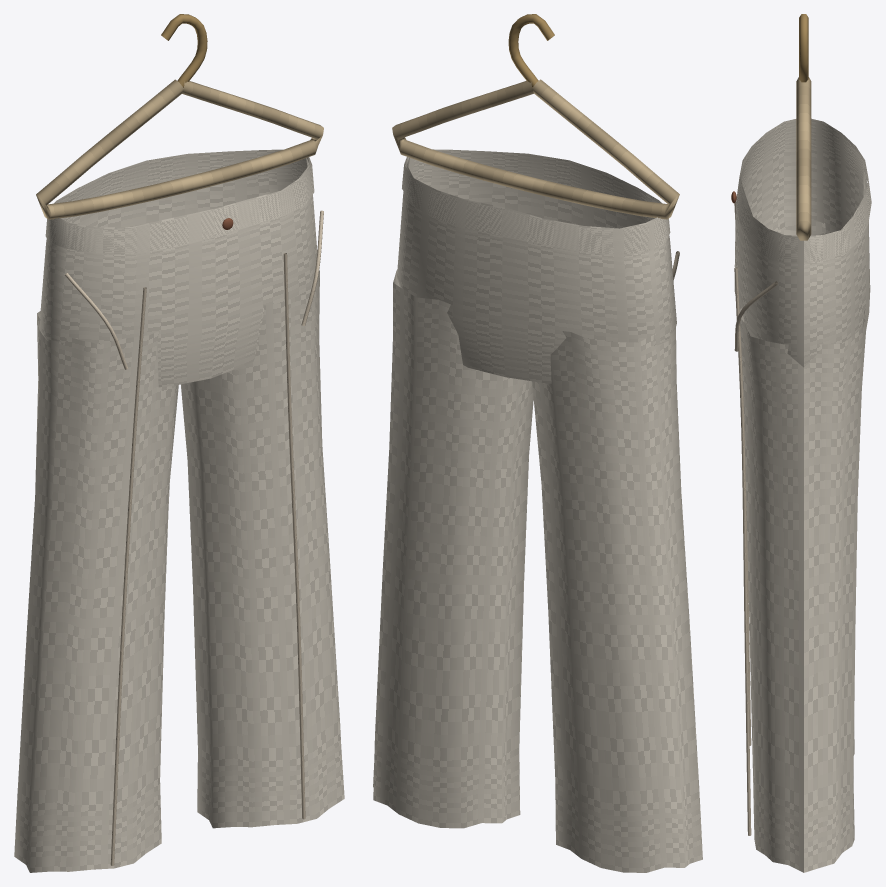
3 views of the same model, side by side, from view 1: azimuth 30°, elevation 25°; view 2: azimuth 150°, elevation 25°; view 3: azimuth 270°, elevation 25° (orthographic). The views are drawn at different scales.
Visible parts, largest first — view 1: fabric_cream, ash_grain, fabric_linen, aged_brass; view 2: fabric_cream, ash_grain, aged_brass; view 3: fabric_cream, fabric_linen, ash_grain, aged_brass.
Boxes of the visible parts, x1,y1,x2,y2 form: fabric_cream: (14,149,344,872); ash_grain: (36,79,323,219); fabric_linen: (65,210,323,865); aged_brass: (161,14,207,87); fabric_cream: (373,149,702,872); ash_grain: (392,79,679,219); aged_brass: (508,14,554,87); fabric_cream: (734,118,871,872); fabric_linen: (734,202,778,835); ash_grain: (796,77,811,240); aged_brass: (799,14,808,82).
Bounding box in the file's own units: 0.5277 × 1.27 × 0.207.
5 materials, 3 textured.
